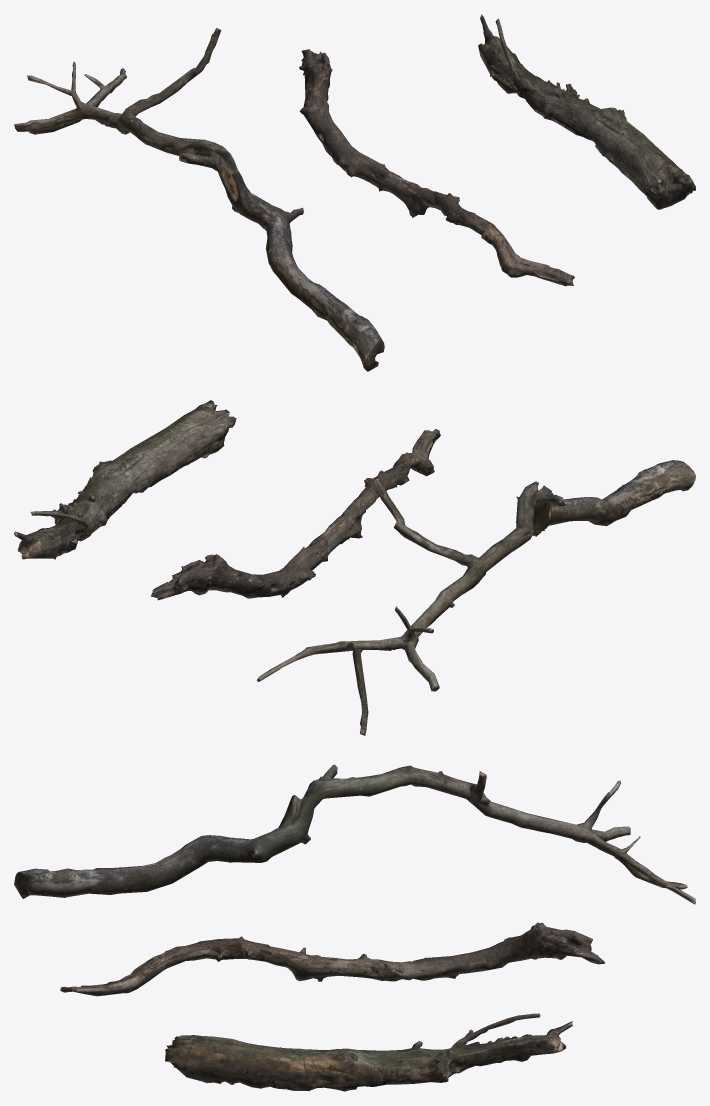
File: dry_branches_medium_01.glb
3 renders of one model, top to bottom at view 1: azimuth 30°, elevation 25°; view 2: azimuth 150°, elevation 25°; view 3: azimuth 270°, elevation 25°, orthographic. The views are drawn at different scales.
Parts seen in each view (by area): view 1: dry_branches_medium_01_a, dry_branches_medium_01_c, dry_branches_medium_01_b; view 2: dry_branches_medium_01_a, dry_branches_medium_01_c, dry_branches_medium_01_b; view 3: dry_branches_medium_01_a, dry_branches_medium_01_c, dry_branches_medium_01_b.
Boxes of the visible parts, box(x1,y1,x2,y2) form: dry_branches_medium_01_a: box(14, 28, 384, 371); dry_branches_medium_01_c: box(478, 14, 695, 209); dry_branches_medium_01_b: box(299, 49, 574, 286); dry_branches_medium_01_a: box(257, 460, 695, 735); dry_branches_medium_01_c: box(14, 400, 236, 559); dry_branches_medium_01_b: box(150, 429, 440, 600); dry_branches_medium_01_a: box(14, 764, 695, 904); dry_branches_medium_01_c: box(165, 1013, 572, 1091); dry_branches_medium_01_b: box(60, 922, 604, 996).
Size of the model in its own units: 1.06 by 0.3401 by 1.3.
1 material, 1 textured.
